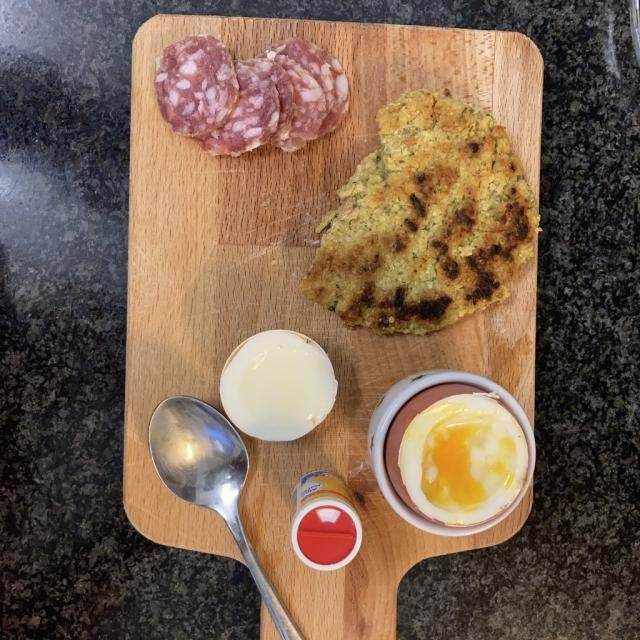egg: (212, 324, 534, 521)
falafel-balls: (299, 92, 545, 337)
salami: (157, 37, 344, 153)
